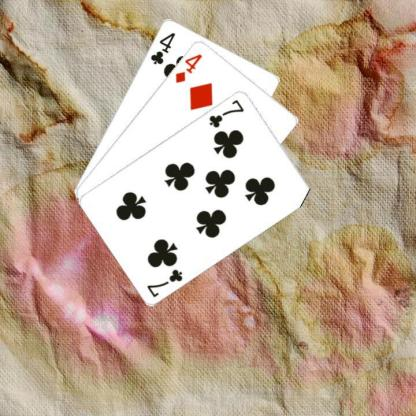4C: (148, 30, 176, 66)
4D: (172, 51, 204, 84)
7C: (206, 96, 246, 129), (144, 266, 184, 298)
